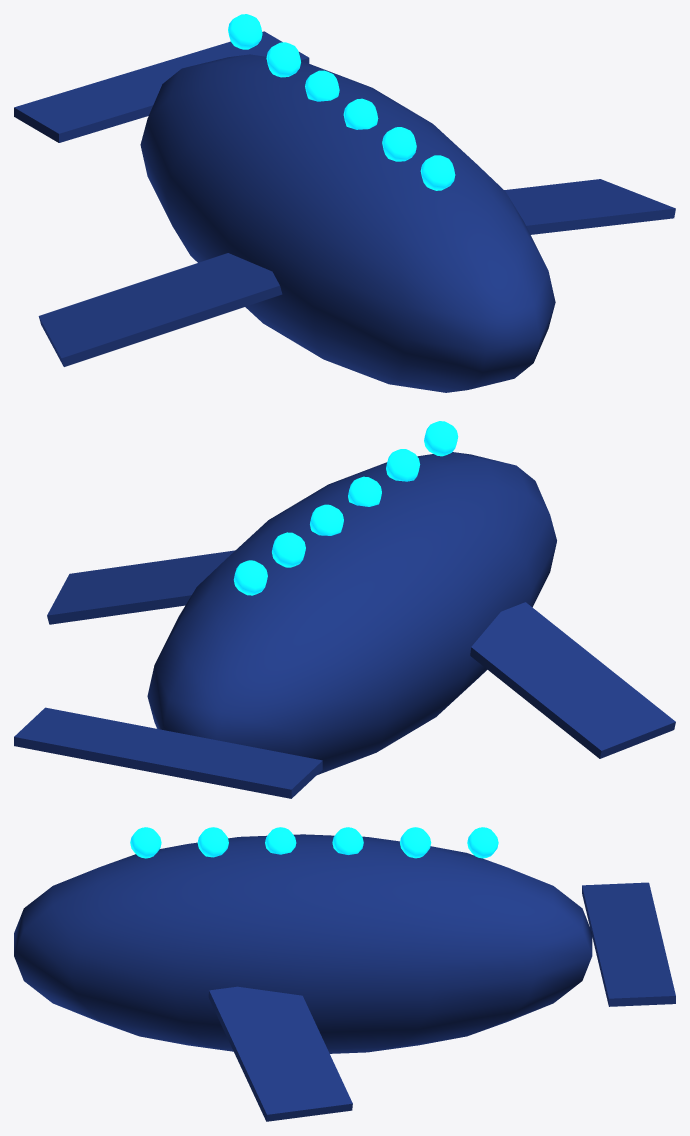
Rendered from skin_creature.glb.
The picture shows the model from 3 angles, top to bottom: view 1: azimuth 30°, elevation 25°; view 2: azimuth 150°, elevation 25°; view 3: azimuth 270°, elevation 25°; orthographic projection. The views are drawn at different scales.
Parts seen in each view (by area): view 1: Skin_Creature; view 2: Skin_Creature; view 3: Skin_Creature.
Boxes of the visible parts, box(x1,y1,x2,y2) form: Skin_Creature: box(14, 14, 675, 392); Skin_Creature: box(14, 421, 675, 798); Skin_Creature: box(14, 827, 675, 1121).
Size of the model in its own units: 2.76 by 1.05 by 2.95.
